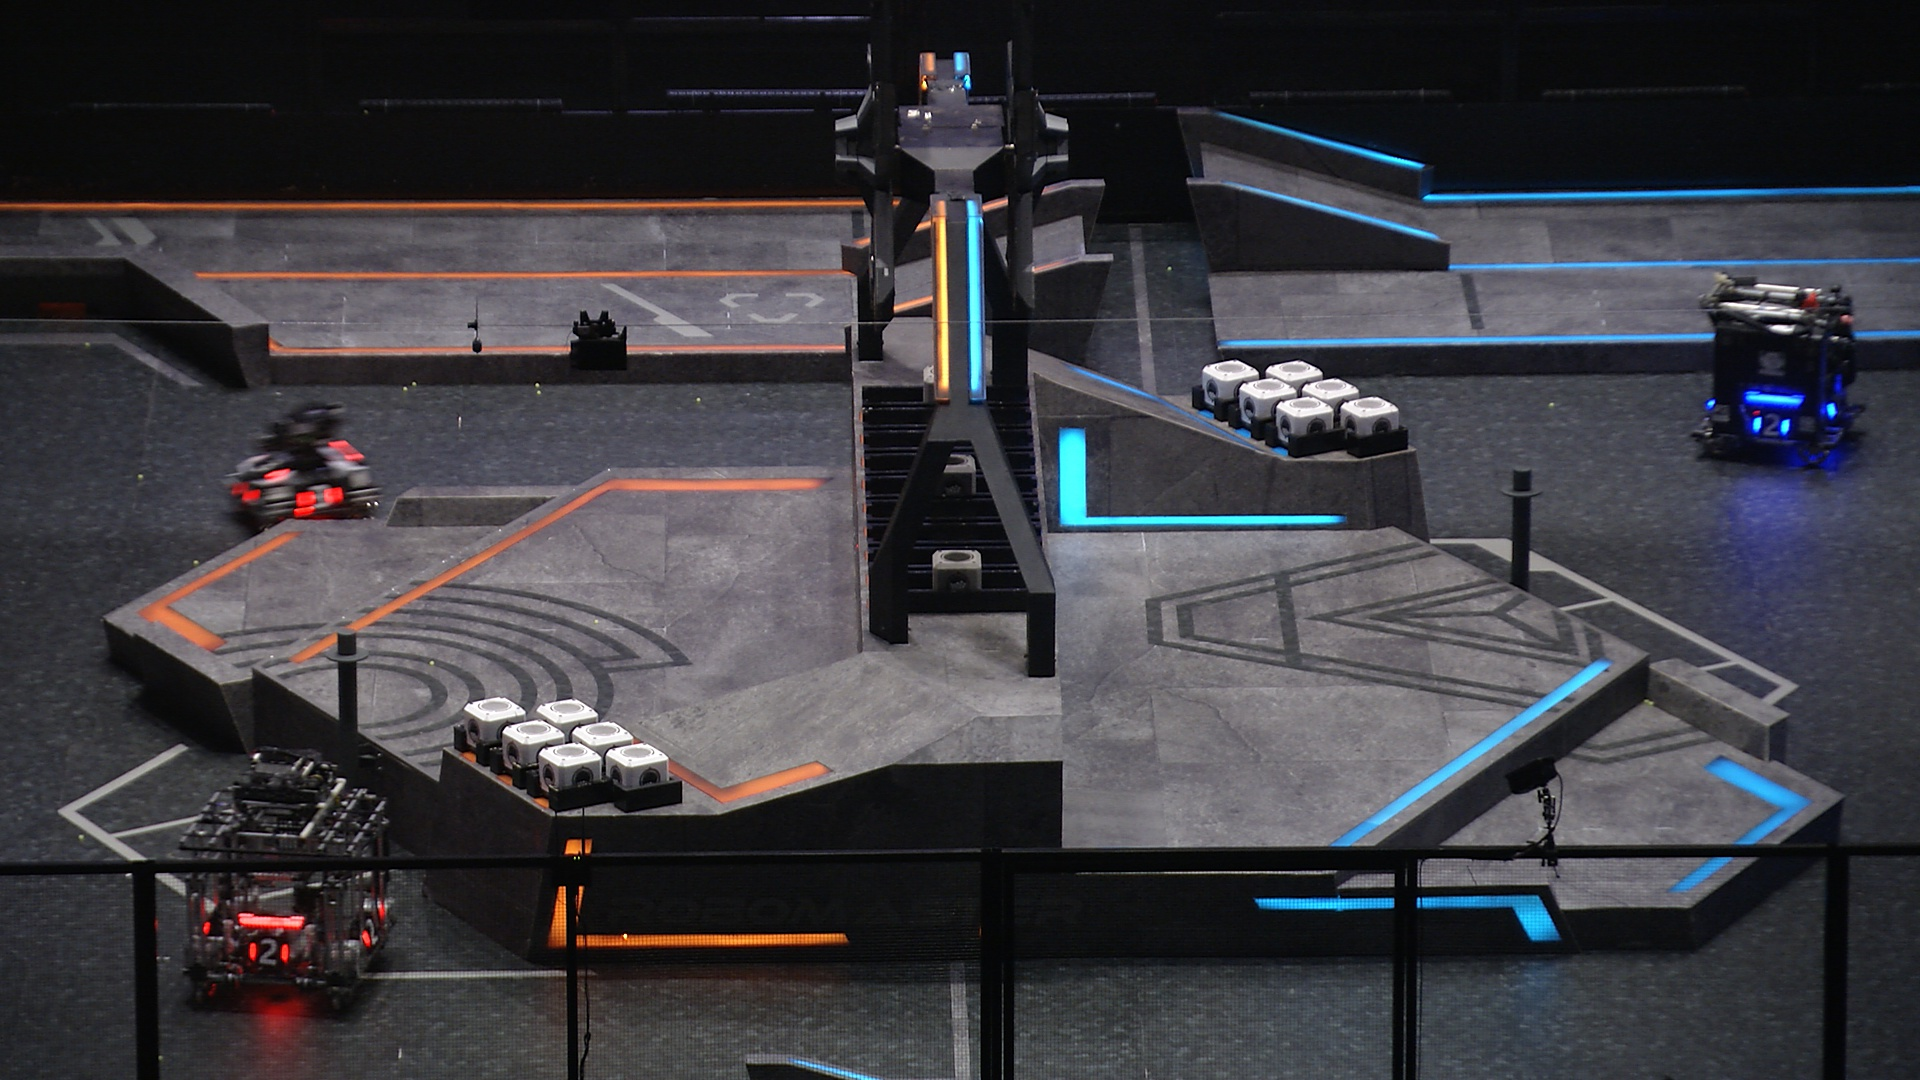armor: (363, 899, 392, 953), (245, 938, 294, 969), (297, 481, 343, 514), (248, 450, 289, 481), (1751, 411, 1792, 438)
car: (183, 737, 400, 1007), (1695, 266, 1873, 469), (225, 400, 382, 527)
